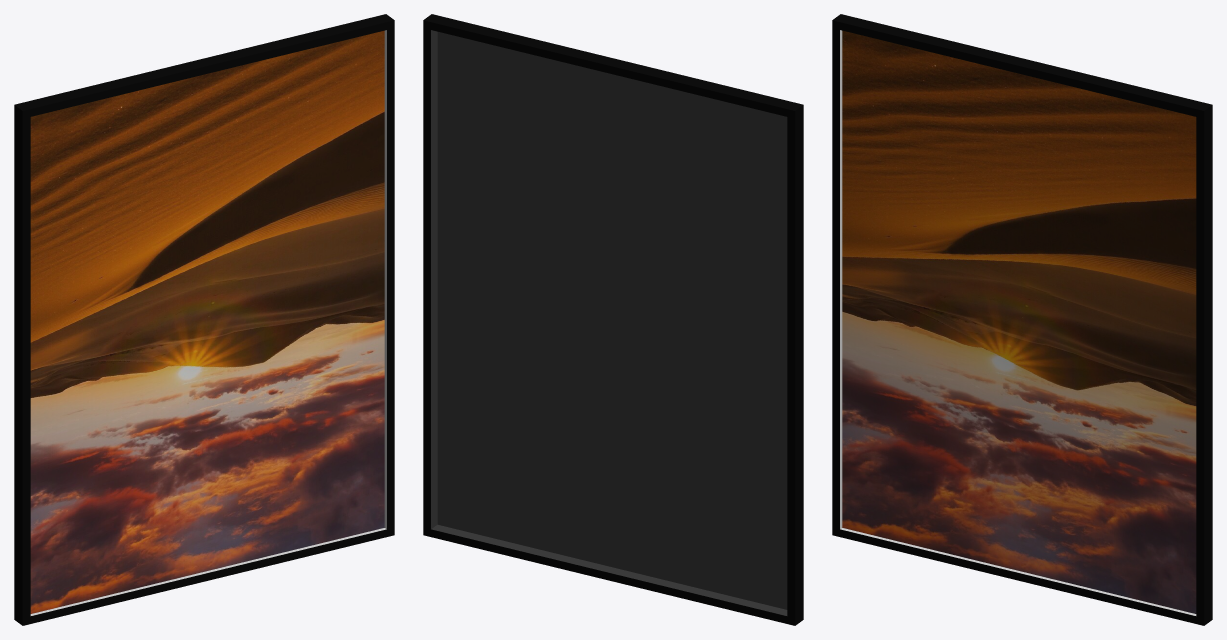
Rendered from frame_3.gltf.
The picture shows the model from 3 angles, left to right: view 1: azimuth 30°, elevation 25°; view 2: azimuth 150°, elevation 25°; view 3: azimuth 330°, elevation 25°; orthographic projection.
Visible parts, largest first — view 1: Material3 (×2), Material2; view 2: Material3, Material2; view 3: Material3 (×2), Material2.
Boxes of the visible parts, x1,y1,x2,y2 form: Material3 (×2): [30, 30, 386, 615]; Material2: [14, 14, 394, 625]; Material3: [431, 30, 787, 615]; Material2: [423, 14, 803, 625]; Material3 (×2): [840, 30, 1196, 615]; Material2: [832, 14, 1212, 625].
Size of what is drawn, in the model's own units: 24.95 by 33 by 1.
4 materials, 1 textured.
